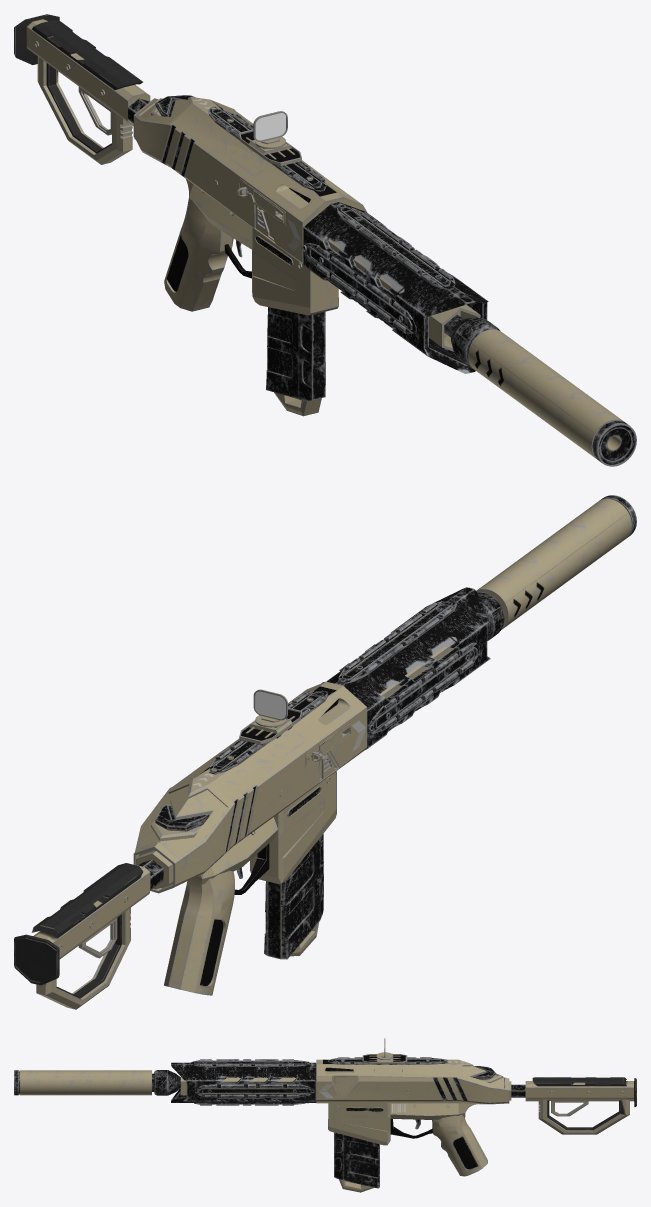
Rendered from Recon.fbx.
3 views of the same model, one above another, from view 1: azimuth 30°, elevation 25°; view 2: azimuth 150°, elevation 25°; view 3: azimuth 270°, elevation 25° (orthographic). The views are drawn at different scales.
Parts seen in each view (by area): view 1: Recon Phantom; view 2: Recon Phantom; view 3: Recon Phantom.
Part boxes in pixels (x1,y1,x2,y2): Recon Phantom: (14,14,636,466); Recon Phantom: (14,495,636,1009); Recon Phantom: (14,1038,636,1192).
Bounding box in the file's own units: 169 × 584 × 2211.
